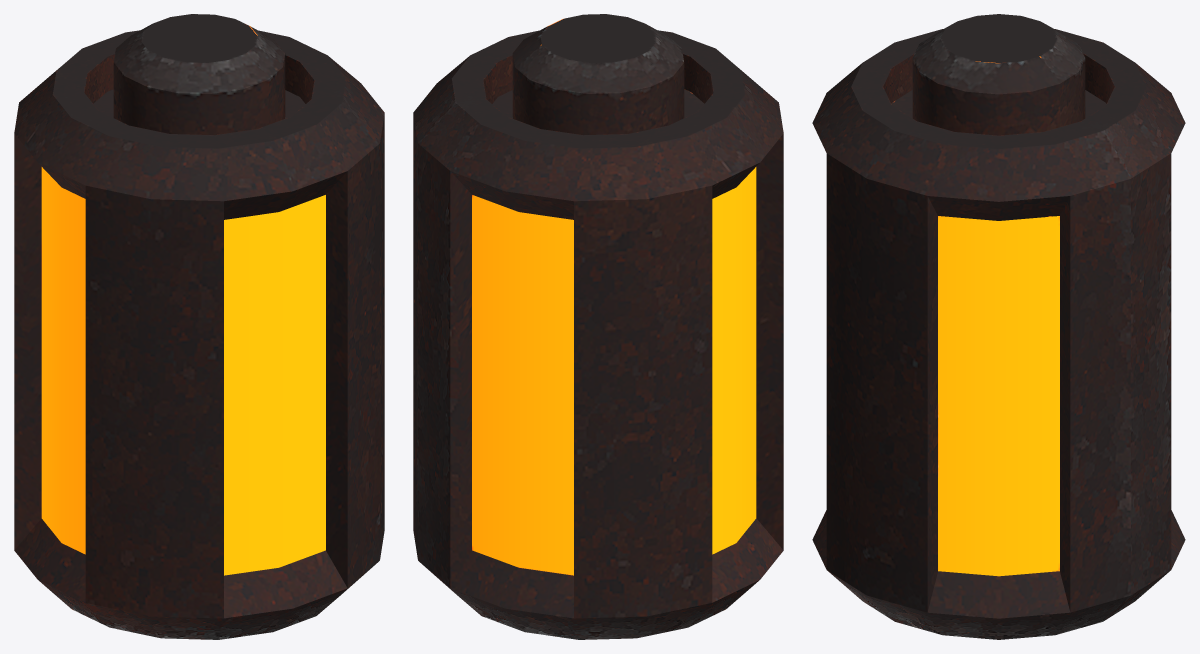
The model's file is Barrel_Lava_v1_Guilty.glb.
3 views of the same model, side by side, from view 1: azimuth 30°, elevation 25°; view 2: azimuth 150°, elevation 25°; view 3: azimuth 270°, elevation 25° (orthographic).
Parts seen in each view (by area): view 1: Cylinder; view 2: Cylinder; view 3: Cylinder.
Boxes of the visible parts, left/top/right/bottom form: Cylinder: left=14, top=14, right=384, bottom=639; Cylinder: left=413, top=14, right=783, bottom=639; Cylinder: left=812, top=14, right=1185, bottom=639.
Bounding box in the file's own units: 0.3613 × 0.5758 × 0.3613.
Materials: 1 (1 with a texture image).
